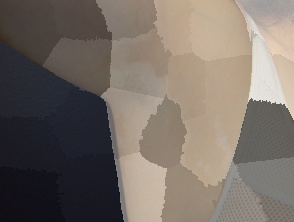vitiligo: (0, 0, 203, 159)
